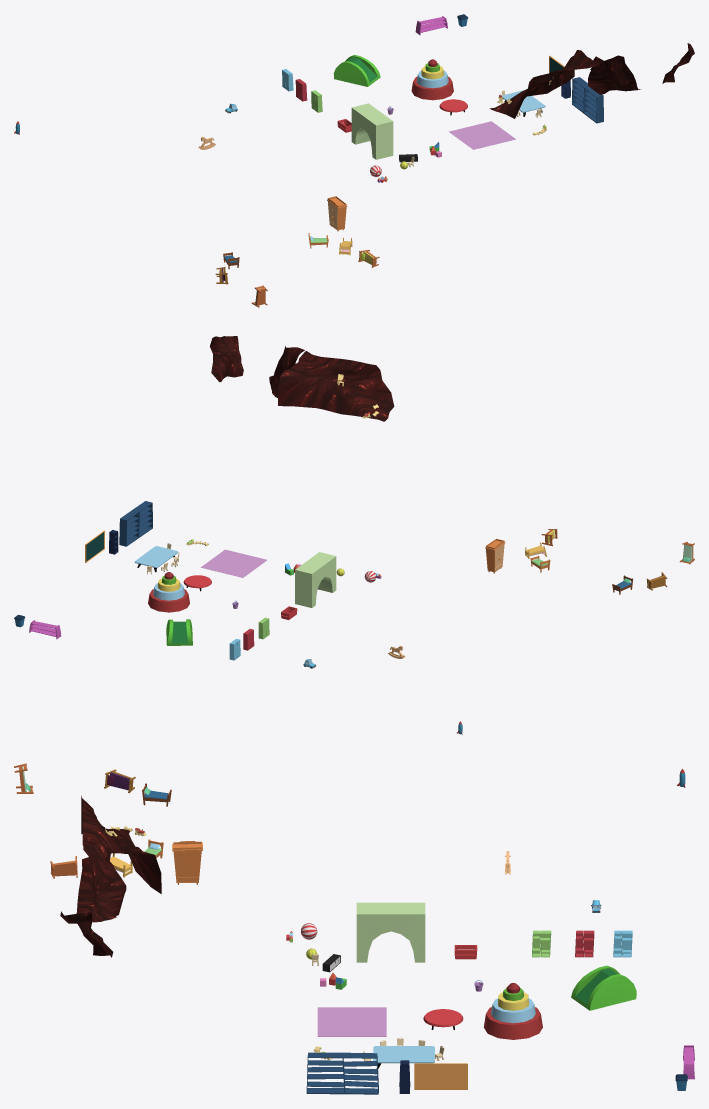
File: Kindergarten stuff.fbx
The picture shows the model from 3 angles, top to bottom: view 1: azimuth 30°, elevation 25°; view 2: azimuth 150°, elevation 25°; view 3: azimuth 270°, elevation 25°; orthographic projection. The views are drawn at different scales.
Parts seen in each view (by area): view 1: stuff kindergarden.021, stuff kindergarden.049, stuff kindergarden.054, stuff kindergarden.041, stuff kindergarden.030, stuff kindergarden.043, stuff kindergarden.048, stuff kindergarden.006; view 2: stuff kindergarden.049, stuff kindergarden.021, stuff kindergarden.055, stuff kindergarden.041, stuff kindergarden.048, stuff kindergarden.030, stuff kindergarden.043, stuff kindergarden.054; view 3: stuff kindergarden.021, stuff kindergarden.054, stuff kindergarden.048, stuff kindergarden.041, stuff kindergarden.049, stuff kindergarden.030, stuff kindergarden.043, stuff kindergarden.046, stuff kindergarden.006, stuff kindergarden.038, stuff kindergarden.055, stuff kindergarden.040 (+3 smaller).
Boxes of the visible parts, <box> form: stuff kindergarden.021: <box>351,103,393,159</box>; stuff kindergarden.049: <box>490,50,602,118</box>; stuff kindergarden.054: <box>588,55,640,94</box>; stuff kindergarden.041: <box>411,59,453,100</box>; stuff kindergarden.030: <box>449,121,515,149</box>; stuff kindergarden.043: <box>333,55,380,86</box>; stuff kindergarden.048: <box>572,77,603,123</box>; stuff kindergarden.006: <box>327,196,347,231</box>; stuff kindergarden.049: <box>278,351,394,421</box>; stuff kindergarden.021: <box>295,552,336,607</box>; stuff kindergarden.055: <box>210,336,243,382</box>; stuff kindergarden.041: <box>148,572,189,612</box>; stuff kindergarden.048: <box>119,501,152,546</box>; stuff kindergarden.030: <box>201,549,266,577</box>; stuff kindergarden.043: <box>166,619,192,645</box>; stuff kindergarden.054: <box>269,346,304,397</box>; stuff kindergarden.021: <box>356,902,425,962</box>; stuff kindergarden.054: <box>76,844,126,922</box>; stuff kindergarden.048: <box>306,1052,378,1094</box>; stuff kindergarden.041: <box>483,983,542,1039</box>; stuff kindergarden.049: <box>81,795,161,893</box>; stuff kindergarden.030: <box>317,1007,386,1036</box>; stuff kindergarden.043: <box>571,965,636,1010</box>; stuff kindergarden.046: <box>414,1063,467,1089</box>; stuff kindergarden.006: <box>172,841,202,884</box>; stuff kindergarden.038: <box>373,1046,434,1068</box>; stuff kindergarden.055: <box>60,911,113,957</box>; stuff kindergarden.040: <box>423,1009,463,1029</box>.
Size of the model in its own units: 9123 by 2608 by 8194.
Materials: 2 (2 with a texture image).
